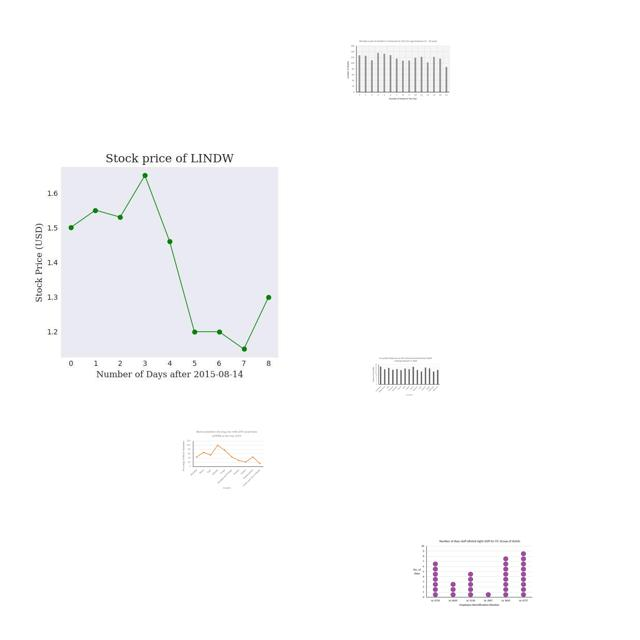Graph: (0, 137, 331, 385), (409, 538, 535, 609), (344, 38, 452, 103), (181, 429, 265, 490), (370, 356, 441, 398)
